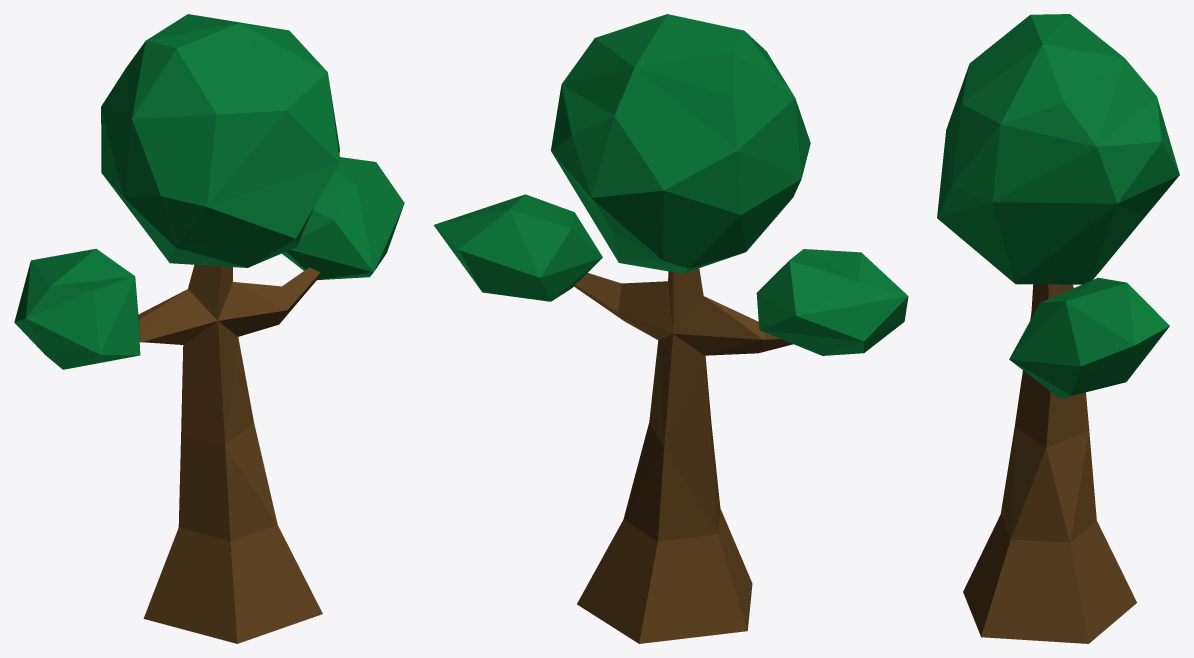
Rendered from Tree_003.gltf.
3 views of the same model, side by side, from view 1: azimuth 30°, elevation 25°; view 2: azimuth 150°, elevation 25°; view 3: azimuth 270°, elevation 25° (orthographic). The views are drawn at different scales.
Parts seen in each view (by area): view 1: Low_Poly_Tree_003; view 2: Low_Poly_Tree_003; view 3: Low_Poly_Tree_003.
Part boxes in pixels (x1,y1,x2,y2): Low_Poly_Tree_003: (14, 14, 404, 643); Low_Poly_Tree_003: (433, 14, 908, 643); Low_Poly_Tree_003: (937, 14, 1179, 643).
Bounding box in the file's own units: 7.52 × 10.17 × 3.94.
